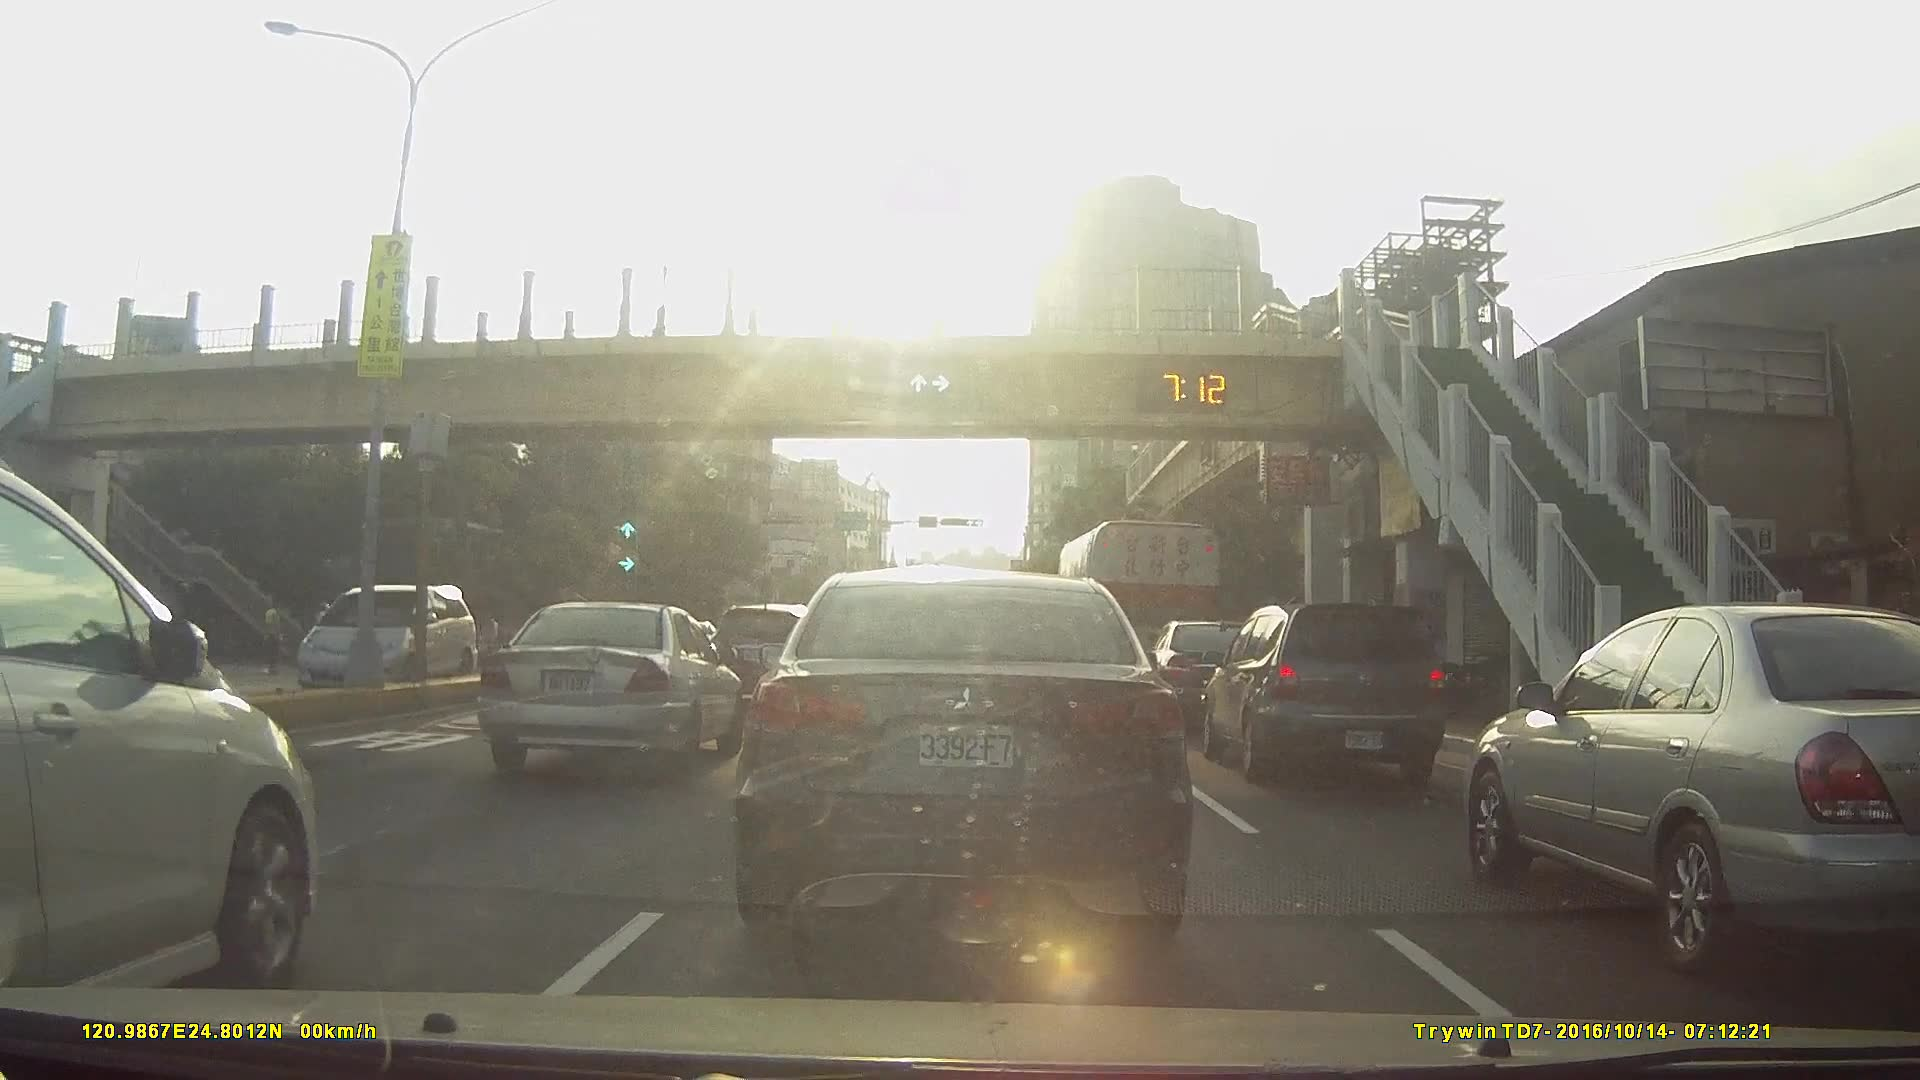vehicle: (0, 444, 335, 1021), (1470, 601, 1920, 984), (736, 562, 1192, 936), (1203, 601, 1449, 787), (481, 600, 750, 770), (284, 579, 485, 698), (1149, 618, 1279, 727), (708, 597, 818, 708)
